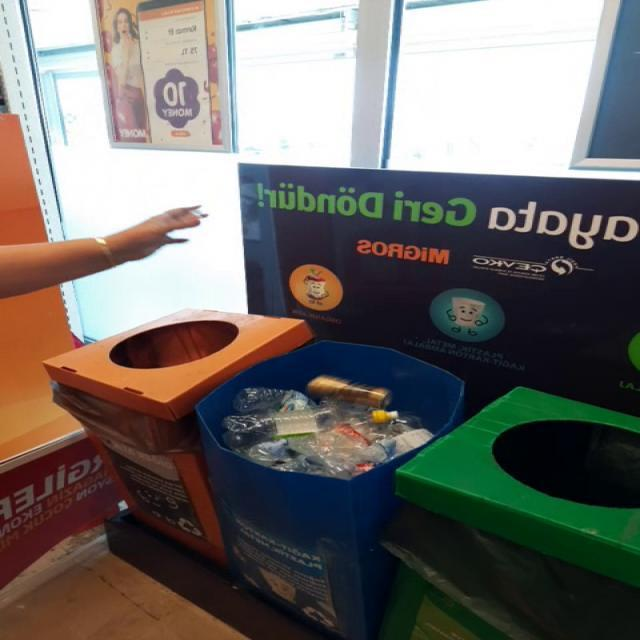Bin: (196, 342, 640, 640), (43, 310, 312, 565)
Metal: (307, 375, 392, 410)
